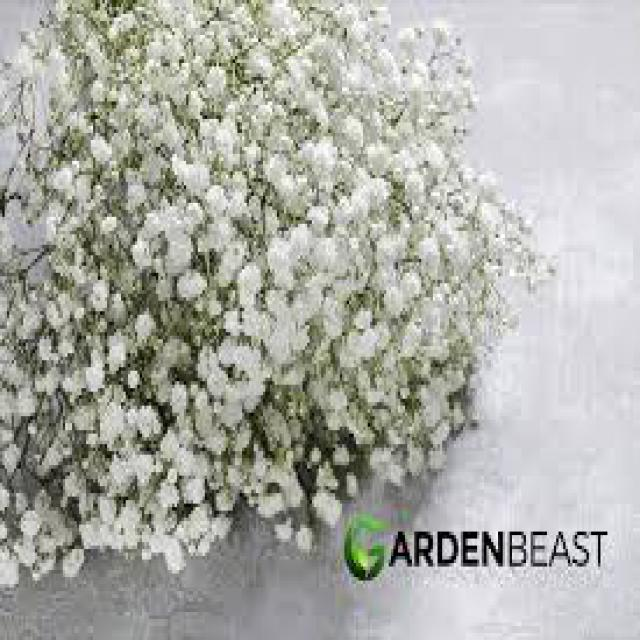gypsophila: (40, 7, 512, 528)
